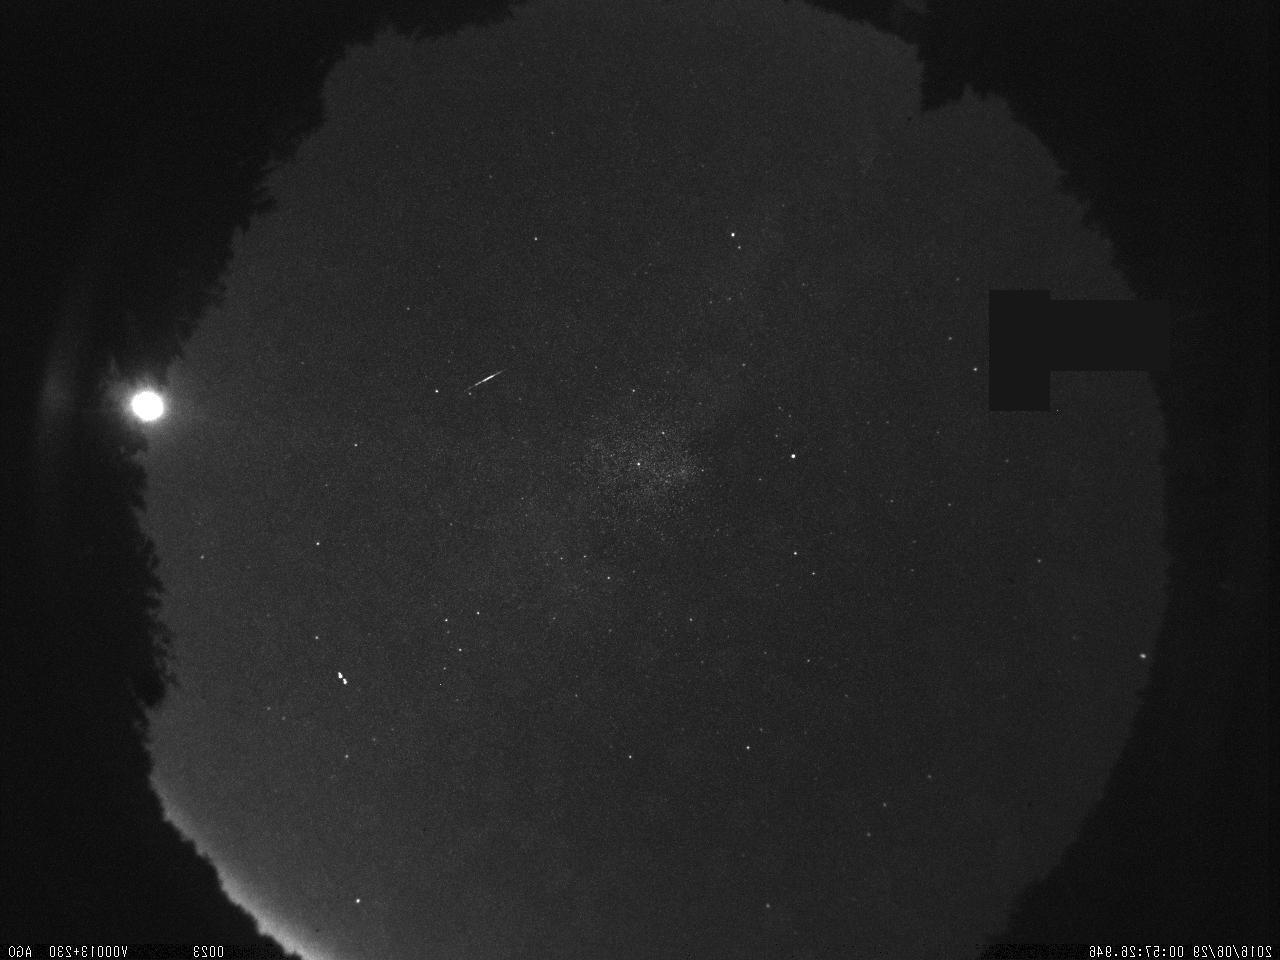meteor: (455, 360, 512, 402)
